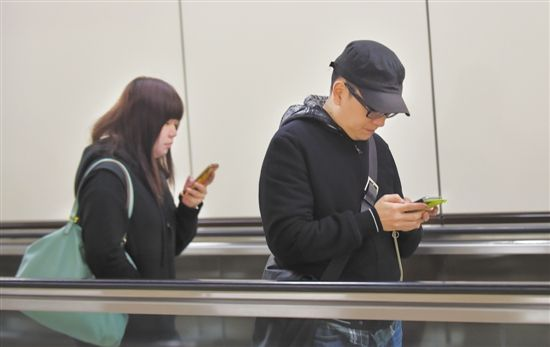reading: (373, 189, 449, 234), (182, 160, 222, 208)
